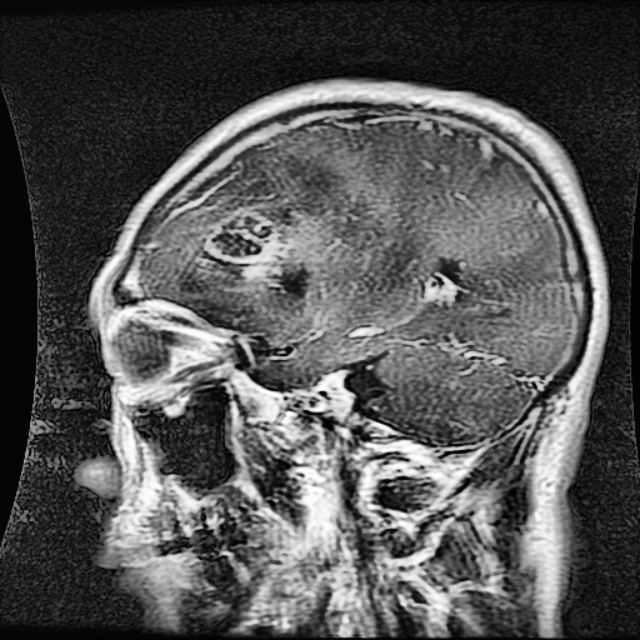Meningioma: (203, 207, 289, 280)
